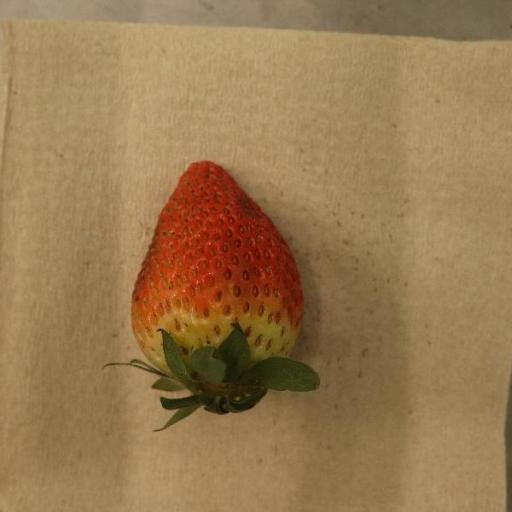Strawberry: (107, 161, 321, 433)
